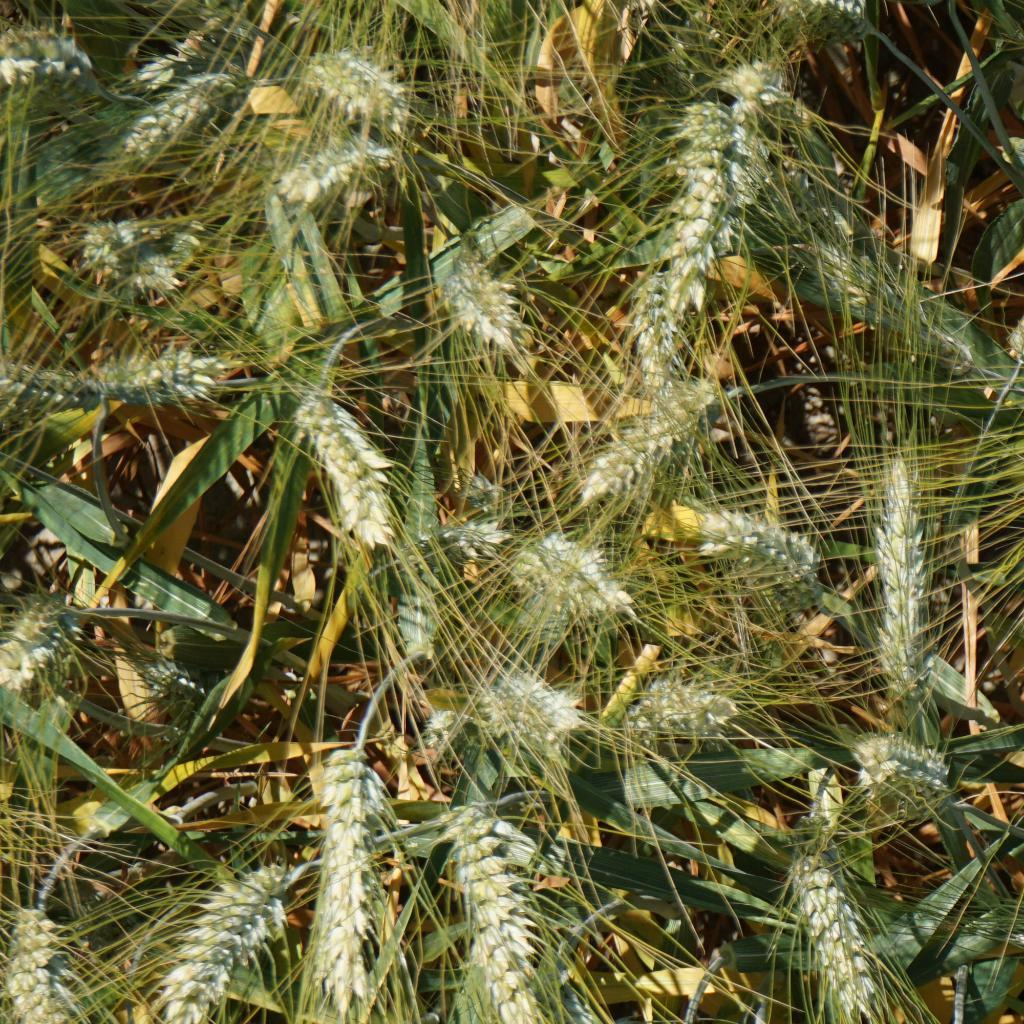0-0: (308, 735, 401, 1001), (150, 862, 299, 1024), (439, 798, 531, 1024), (563, 380, 716, 492), (864, 452, 931, 701), (294, 386, 394, 547), (652, 97, 741, 267), (783, 845, 872, 998), (698, 496, 821, 593), (275, 44, 416, 125), (435, 253, 536, 358), (268, 137, 401, 212), (610, 669, 734, 747), (71, 215, 181, 301), (0, 583, 88, 690), (534, 527, 634, 616), (610, 251, 678, 381), (8, 894, 75, 1024), (482, 666, 584, 751), (112, 83, 225, 156), (94, 353, 220, 407), (0, 354, 110, 414), (719, 101, 780, 209), (495, 542, 564, 637), (0, 20, 92, 89), (541, 937, 606, 1024), (715, 46, 801, 110), (808, 230, 883, 303), (779, 0, 883, 51), (128, 637, 200, 706), (871, 734, 965, 786), (457, 458, 516, 523), (431, 514, 504, 564), (414, 705, 479, 758), (835, 724, 886, 787), (116, 52, 182, 83)
